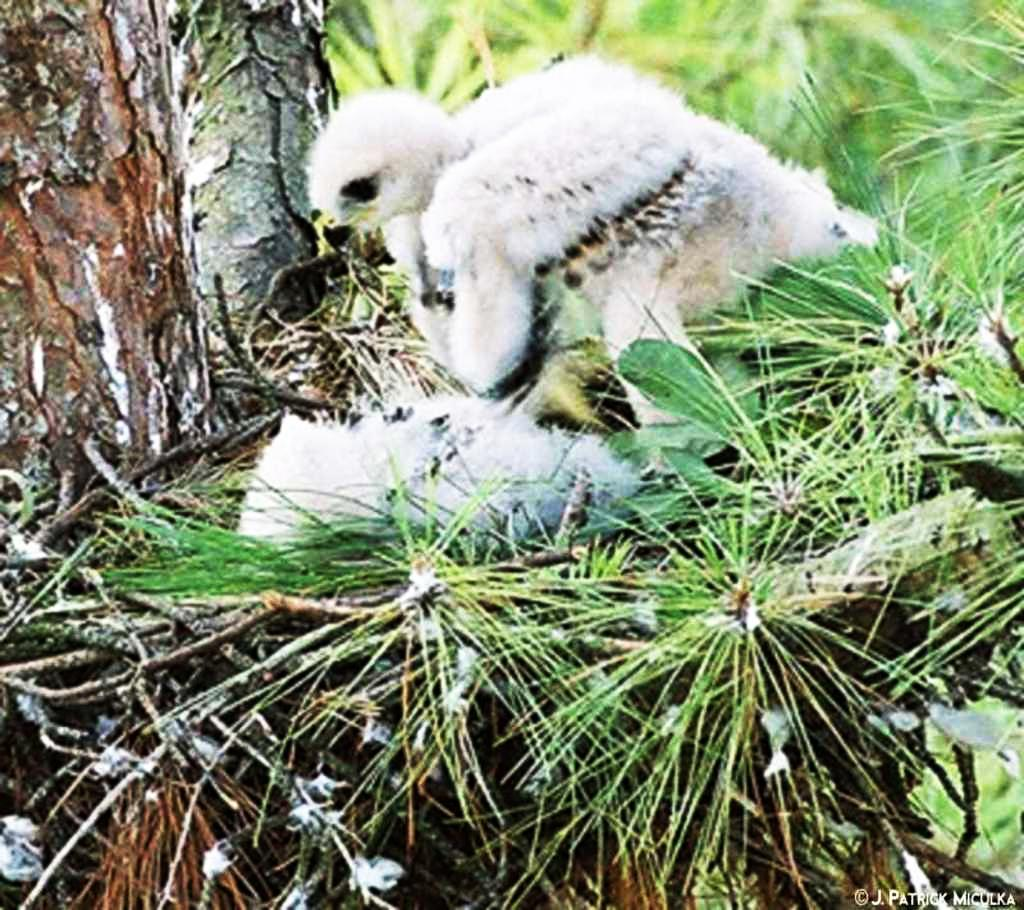Owl: (302, 44, 868, 446), (236, 403, 656, 553)
